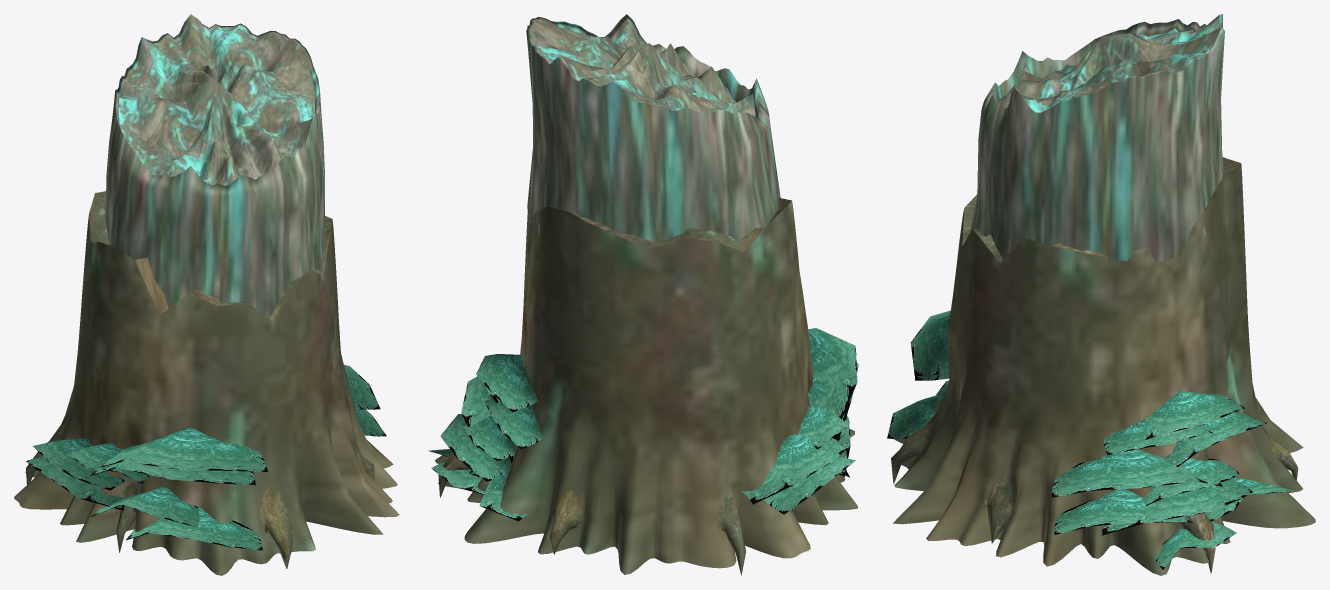
The model's file is SM_pal_b09_Hickory_Pignut_Undergrowth_11db8d.glb.
3 views of the same model, side by side, from view 1: azimuth 30°, elevation 25°; view 2: azimuth 150°, elevation 25°; view 3: azimuth 270°, elevation 25° (orthographic). The views are drawn at different scales.
Bounding box in the file's own units: 3.31 × 3.99 × 3.2.
Materials: 2 (2 with a texture image).
